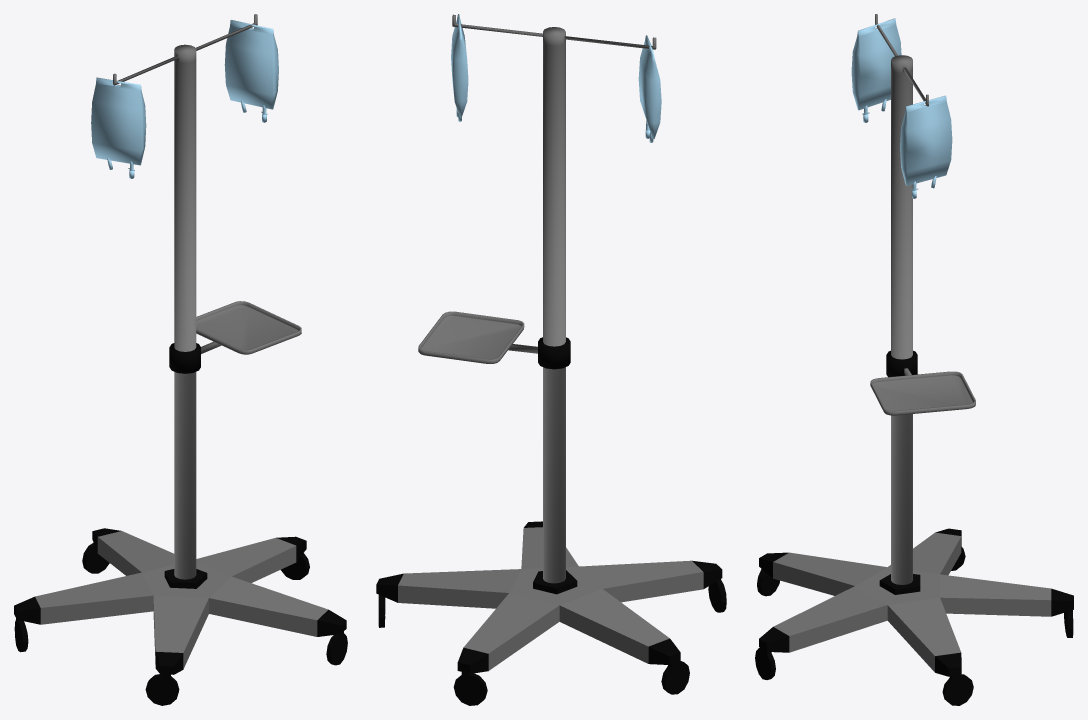
Rendered from IV Stand.fbx.
The picture shows the model from 3 angles, left to right: view 1: azimuth 30°, elevation 25°; view 2: azimuth 150°, elevation 25°; view 3: azimuth 270°, elevation 25°; orthographic projection. The views are drawn at different scales.
Parts seen in each view (by area): view 1: IV Stand, IV Bag 2, IV Bag 1, Tray; view 2: IV Stand, Tray, IV Bag 2, IV Bag 1; view 3: IV Stand, IV Bag 1, Tray, IV Bag 2.
Boxes of the visible parts, x1,y1,x2,y2 form: IV Stand: (14, 14, 347, 705); IV Bag 2: (91, 77, 146, 178); IV Bag 1: (224, 20, 278, 122); Tray: (196, 301, 301, 354); IV Stand: (376, 14, 726, 705); Tray: (418, 311, 524, 363); IV Bag 2: (638, 35, 661, 142); IV Bag 1: (451, 14, 468, 121); IV Stand: (755, 14, 1073, 705); IV Bag 1: (900, 95, 952, 198); Tray: (870, 371, 975, 415); IV Bag 2: (851, 18, 901, 122).
Size of the model in its own units: 110 by 212 by 105.
